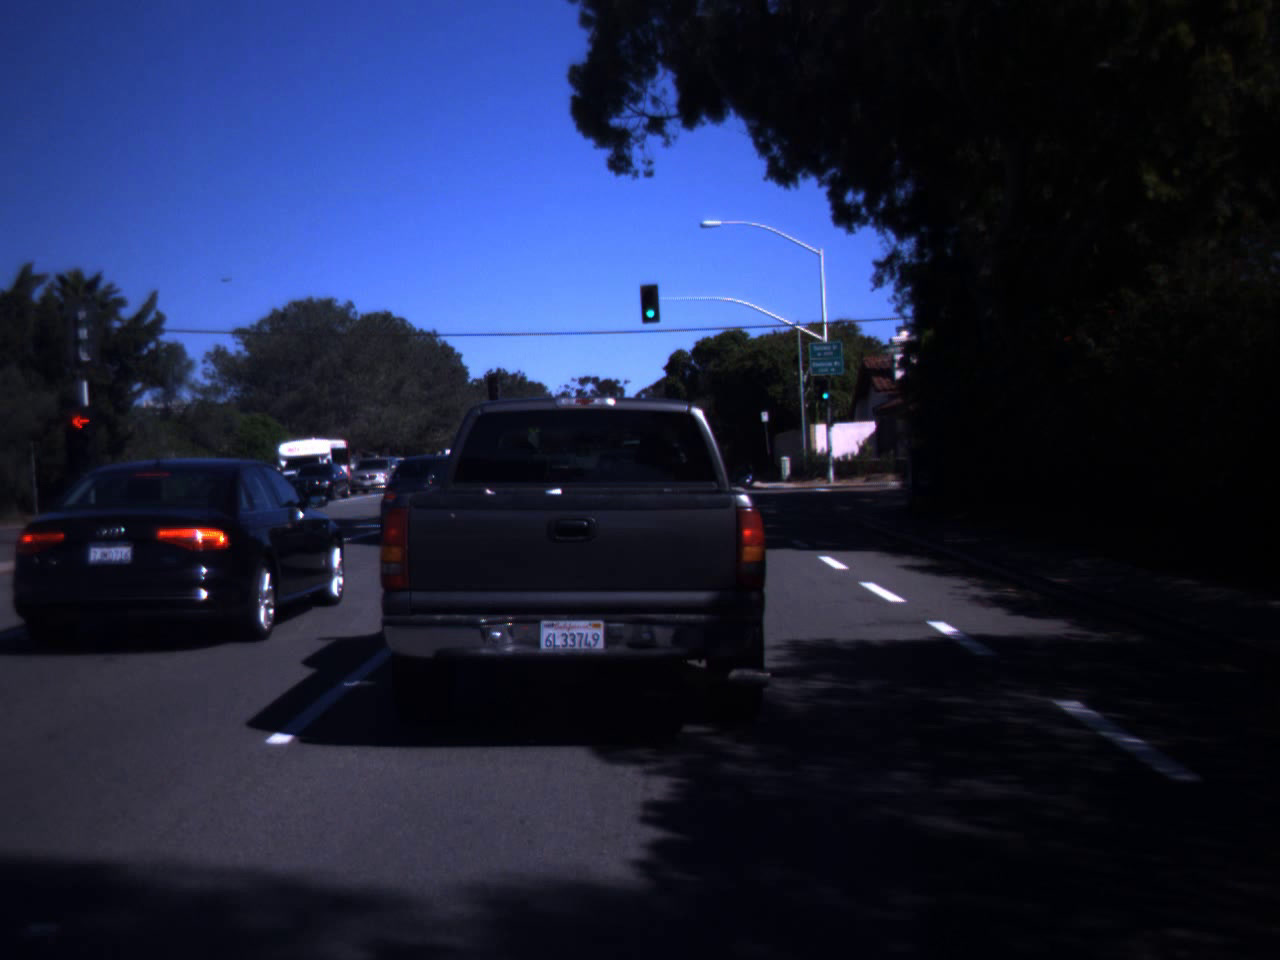go: (642, 290, 660, 320), (818, 379, 830, 399)
stop: (60, 413, 102, 458)
